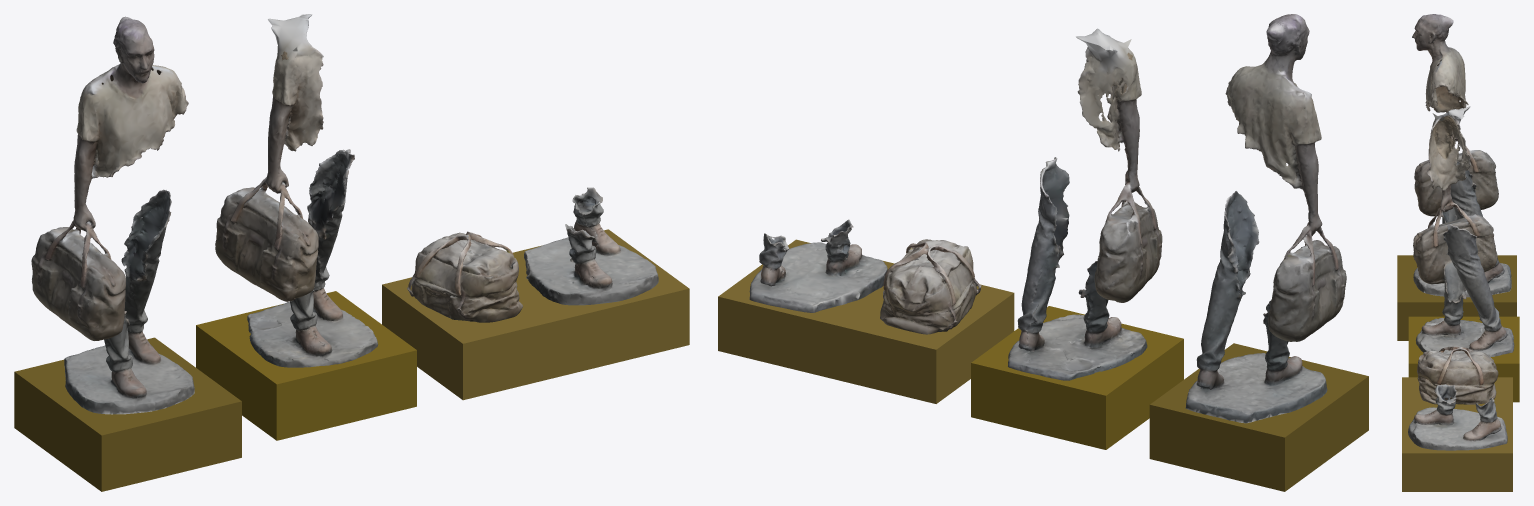
File: preview.glb
The picture shows the model from 3 angles, left to right: view 1: azimuth 30°, elevation 25°; view 2: azimuth 150°, elevation 25°; view 3: azimuth 270°, elevation 25°; orthographic projection. The views are drawn at different scales.
Visible parts, largest first — view 1: Object_2; view 2: Object_2; view 3: Object_2.
Boxes of the visible parts, <box> form: Object_2: <box>14,14,689,491</box>; Object_2: <box>718,14,1368,491</box>; Object_2: <box>1397,14,1519,491</box>.
Bounding box in the file's own units: 276 × 193 × 71.73.
